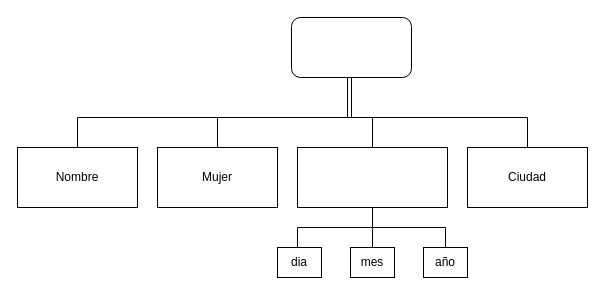
Image size: 605x295. Some labels were removed from this diagram. The shapes that lost their labels are listed below. From the top down, each one's centre as x and y in pixels, then its label:
At pixel 351 47: "Persona".
At pixel 372 177: "Fecha_de_nacimiento".
